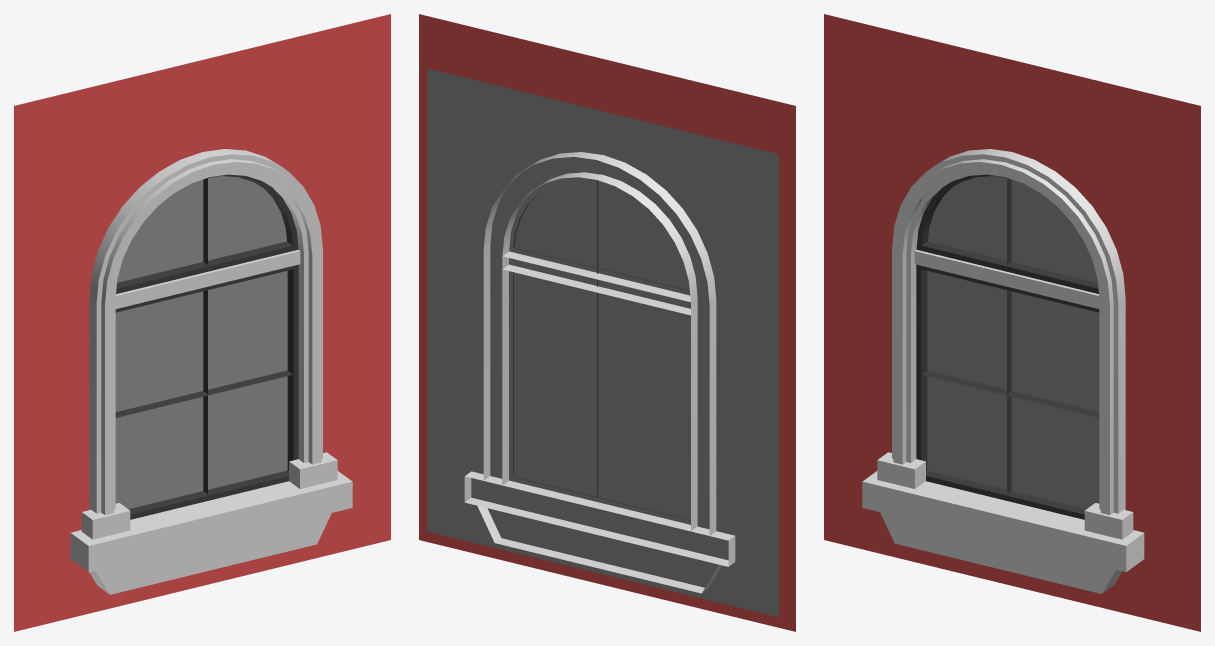
The model's file is object_B1_Window.glb.
The picture shows the model from 3 angles, left to right: view 1: azimuth 30°, elevation 25°; view 2: azimuth 150°, elevation 25°; view 3: azimuth 330°, elevation 25°; orthographic projection.
Parts seen in each view (by area): view 1: B1 Window; view 2: B1 Window; view 3: B1 Window.
Boxes of the visible parts, box(x1,y1,x2,y2) form: B1 Window: box(14, 14, 390, 631); B1 Window: box(419, 14, 795, 631); B1 Window: box(824, 14, 1200, 631).
Bounding box in the file's own units: 3 × 4 × 0.4.
